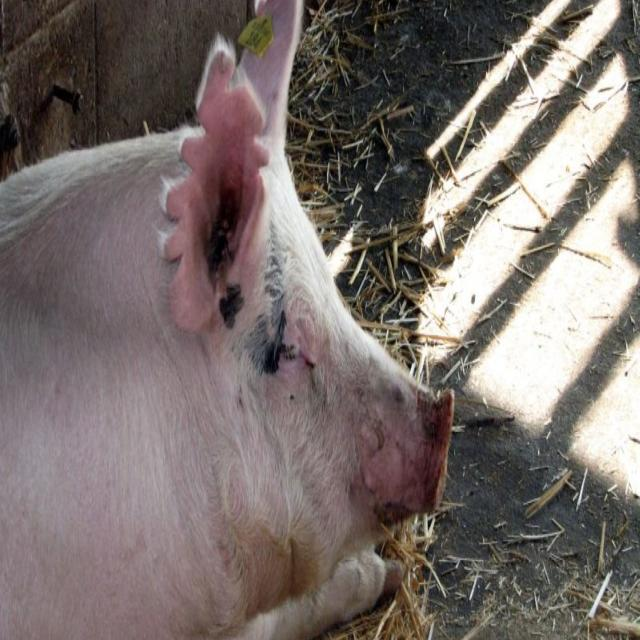pig: (0, 0, 455, 640)
